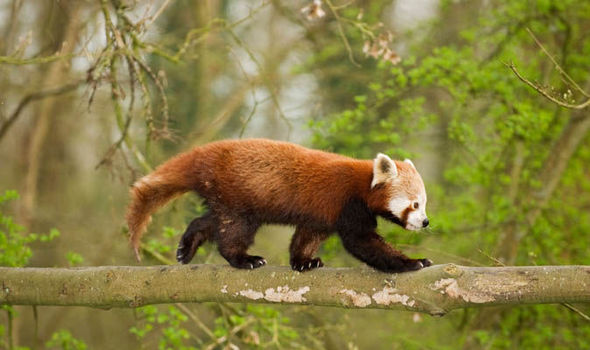red_panda: (124, 136, 449, 291)
